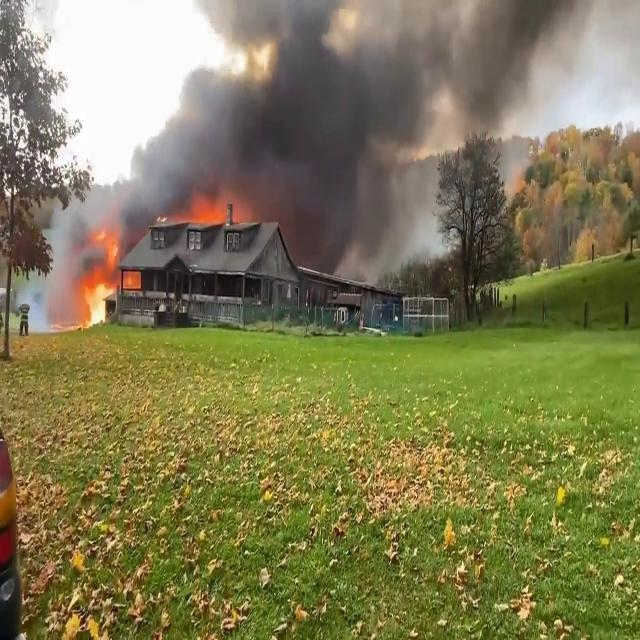Fire: (70, 232, 132, 330), (172, 191, 262, 229)
Smoke: (127, 0, 579, 254)
